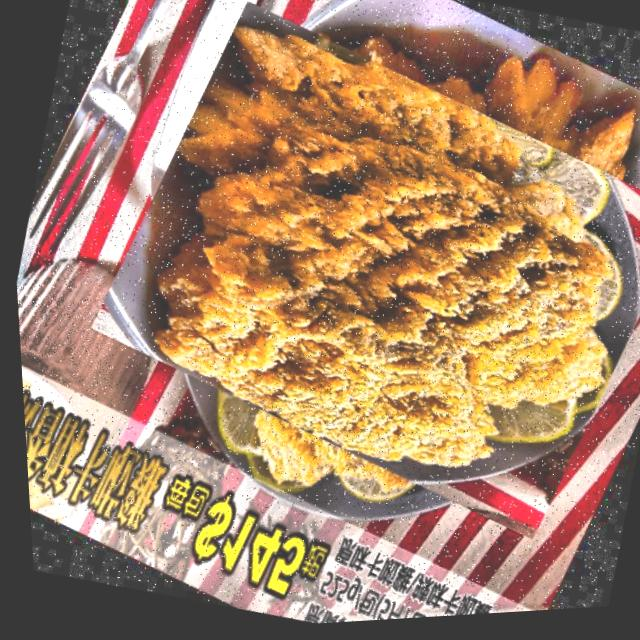Food: (55, 0, 640, 604)
